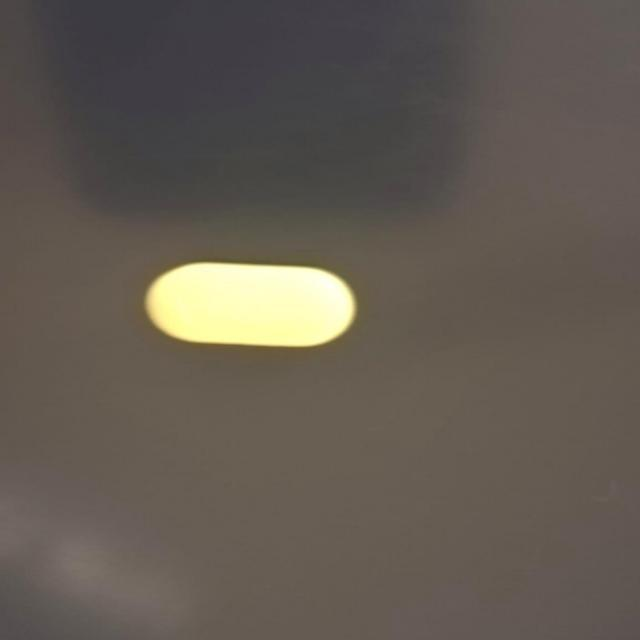pill: (144, 259, 358, 351)
